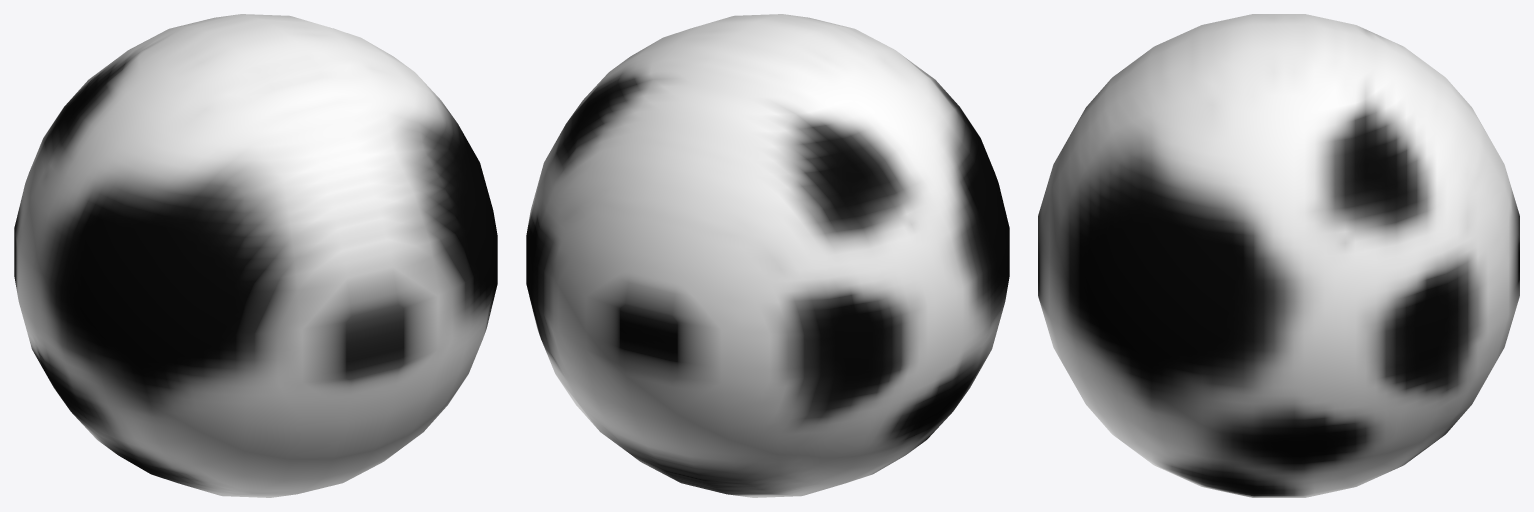
The model's file is jalkapallo.gltf.
3 views of the same model, side by side, from view 1: azimuth 30°, elevation 25°; view 2: azimuth 150°, elevation 25°; view 3: azimuth 270°, elevation 25° (orthographic).
Parts seen in each view (by area): view 1: Cube; view 2: Cube; view 3: Cube.
Part boxes in pixels (x1,y1,x2,y2): Cube: [14, 14, 497, 497]; Cube: [526, 14, 1009, 497]; Cube: [1038, 14, 1519, 497].
Size of the model in its own units: 3.41 by 3.41 by 3.41.
Materials: 1 (1 with a texture image).
